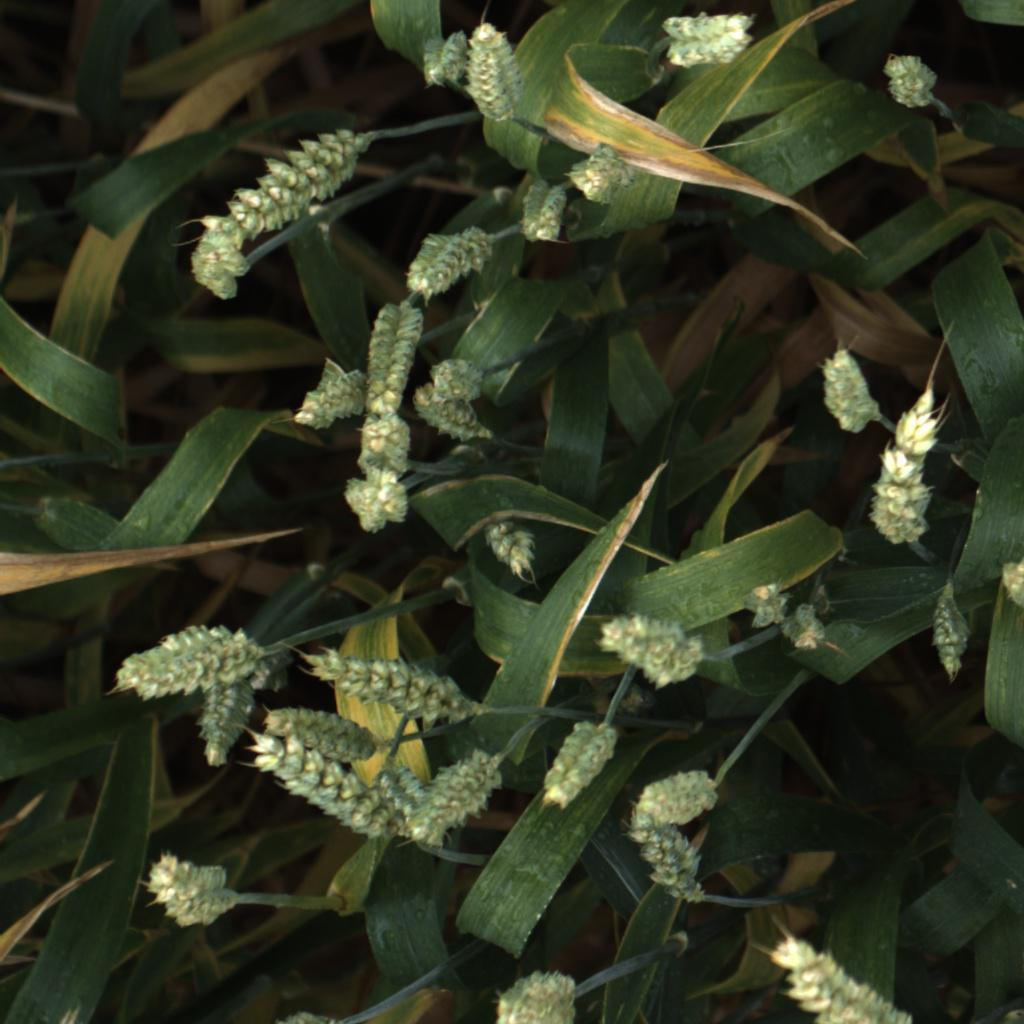0-0: (298, 640, 483, 729), (224, 123, 365, 234), (250, 740, 380, 841), (765, 939, 916, 1024), (872, 389, 950, 545), (113, 622, 275, 697), (410, 747, 522, 837), (178, 666, 273, 771), (358, 755, 447, 861), (597, 612, 710, 695), (171, 211, 258, 300), (139, 853, 237, 932), (252, 702, 391, 755), (655, 8, 766, 74), (532, 722, 614, 807), (460, 18, 527, 122), (363, 305, 424, 417), (404, 224, 492, 300), (628, 818, 703, 904), (817, 350, 884, 435), (629, 763, 718, 824), (290, 365, 365, 435), (340, 468, 417, 536), (492, 970, 583, 1024), (565, 139, 635, 208), (927, 596, 979, 688), (509, 174, 572, 249), (410, 385, 486, 445), (874, 49, 947, 110), (354, 415, 413, 484), (489, 517, 544, 583), (417, 26, 467, 92), (430, 350, 491, 401), (740, 578, 790, 633), (781, 599, 831, 654), (999, 555, 1024, 611)
